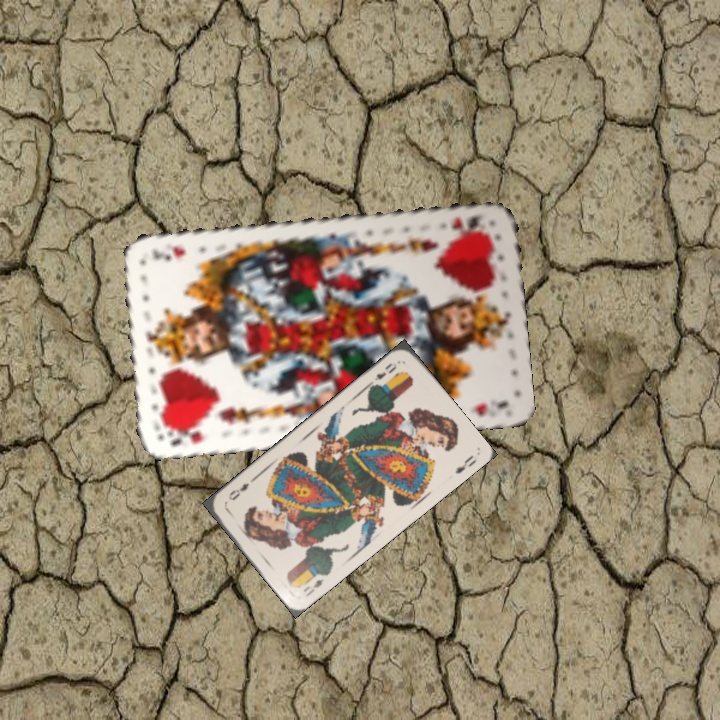EO: (369, 358, 400, 389), (299, 574, 327, 599)
HK: (160, 420, 207, 448), (447, 210, 485, 236)
